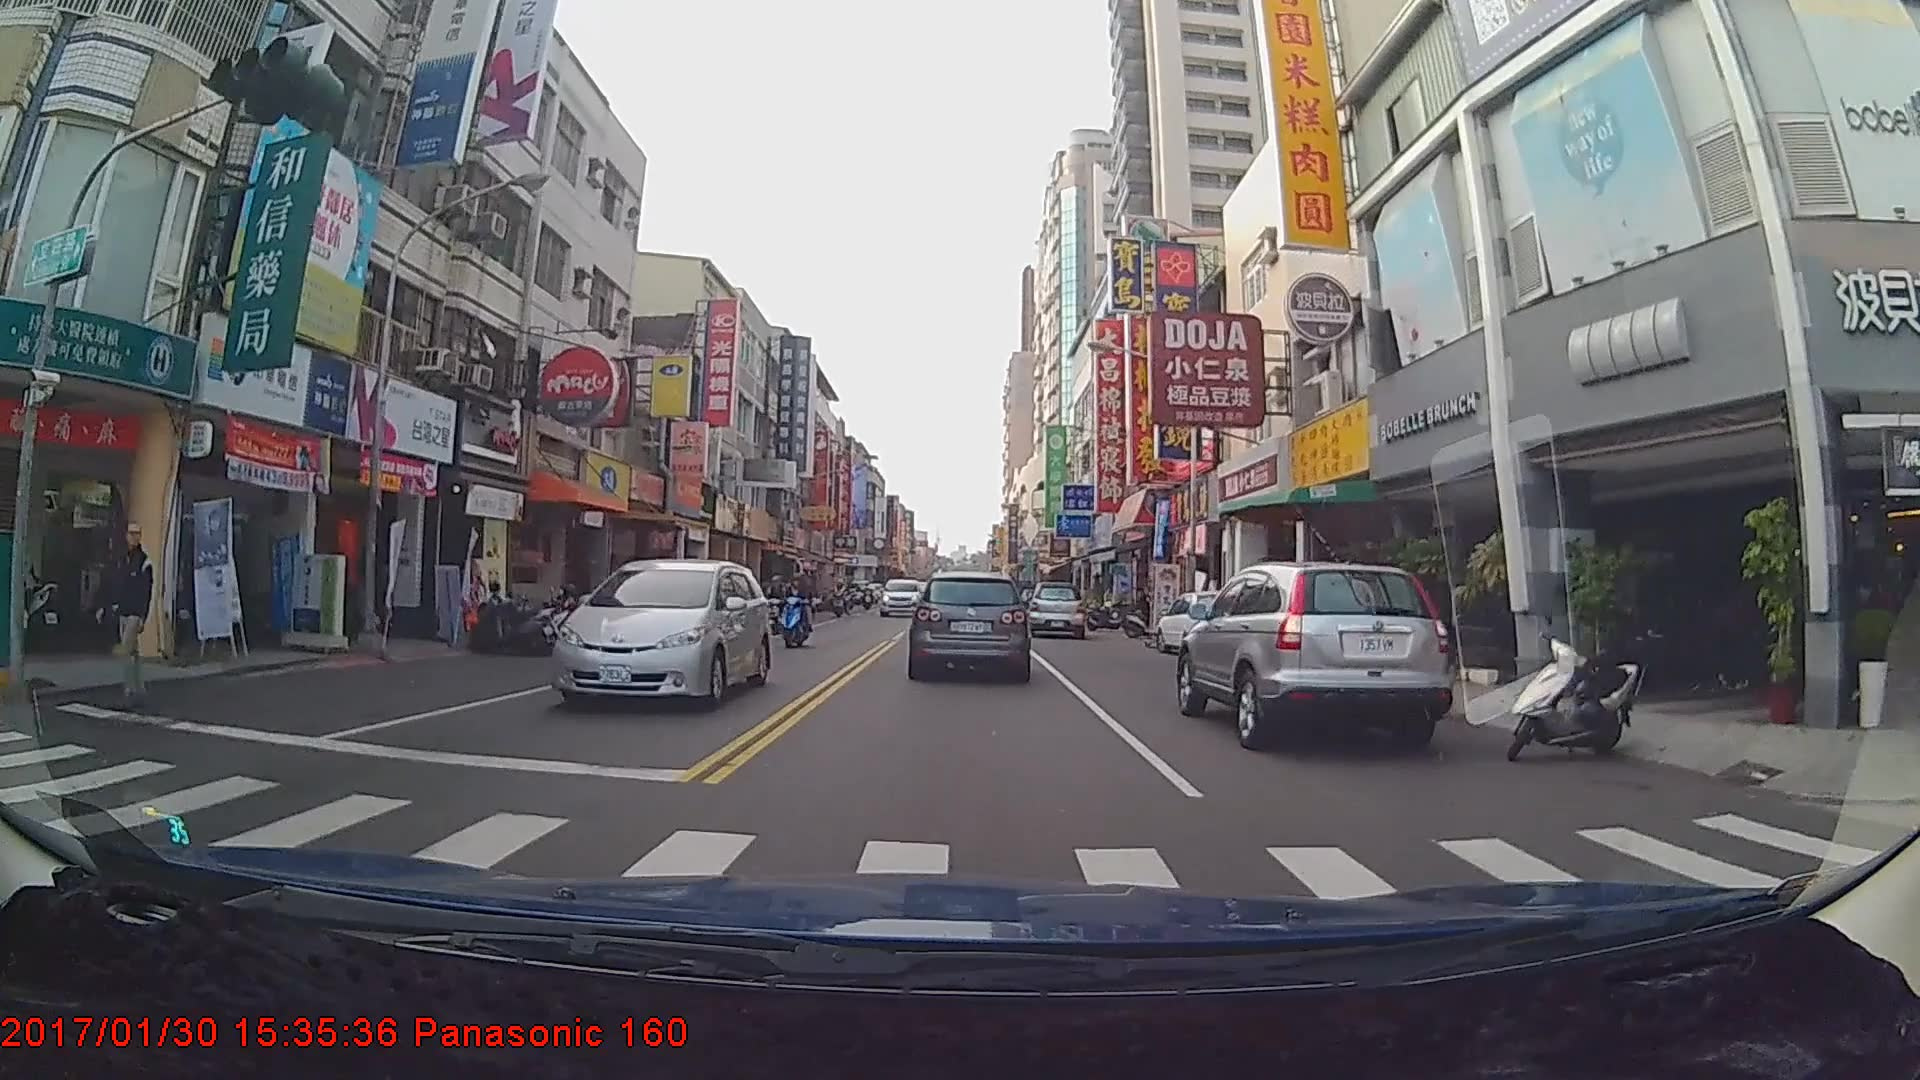pedestrian: (105, 524, 159, 716)
rider: (778, 571, 815, 647)
vehicle: (1174, 559, 1453, 754), (549, 555, 768, 709), (910, 570, 1028, 679), (1154, 588, 1257, 656), (1025, 579, 1085, 636), (877, 574, 924, 616)
